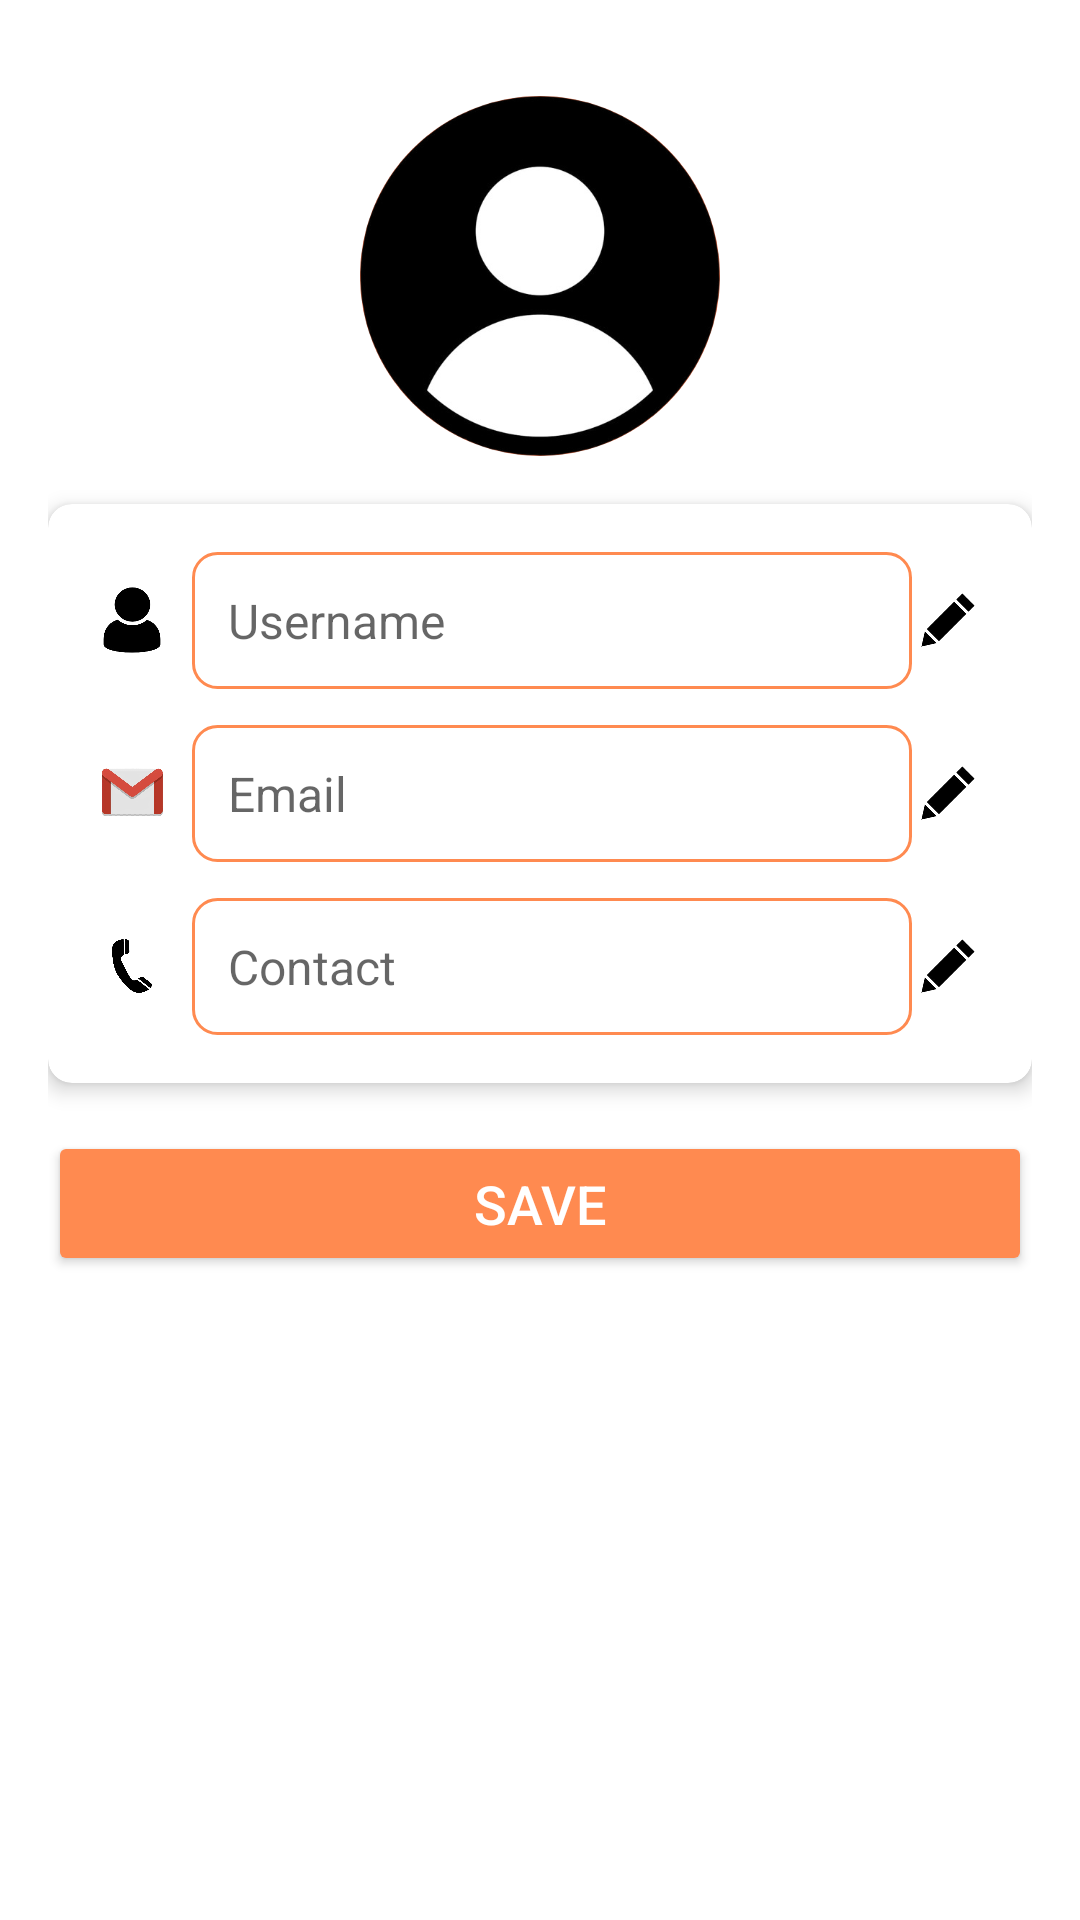

Screen size 1080 x 1920. Icon name, then its center in pixels as [x,y]:
account: [132,620]
profileblack: [540,276]
